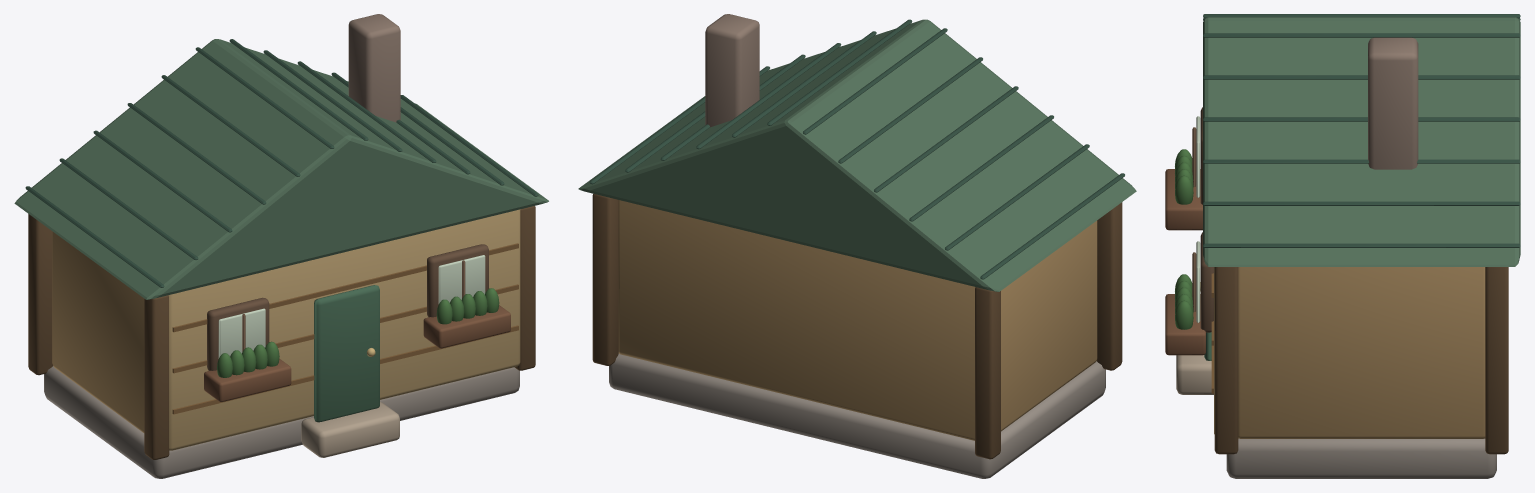
Rendered from res_hazel1.glb.
3 renders of one model, left to right at view 1: azimuth 30°, elevation 25°; view 2: azimuth 150°, elevation 25°; view 3: azimuth 270°, elevation 25°, orthographic. The views are drawn at different scales.
Parts seen in each view (by area): view 1: roof, walls, stone, frame, herb; view 2: roof, walls, stone, frame; view 3: roof, walls, stone, frame, herb.
Boxes of the visible parts, x1,y1,x2,y2 form: roof: (14,39,548,299); walls: (52,209,520,450); stone: (44,14,519,478); frame: (28,206,535,459); herb: (204,288,510,401); roof: (578,19,1136,291); walls: (618,200,1097,440); stone: (609,14,1105,478); frame: (592,194,1122,459); roof: (1203,14,1520,266); walls: (1192,107,1485,438); stone: (1176,37,1496,478); frame: (1214,267,1508,454); herb: (1165,149,1205,355).
Size of the model in its own units: 3.47 by 2.78 by 2.27.
